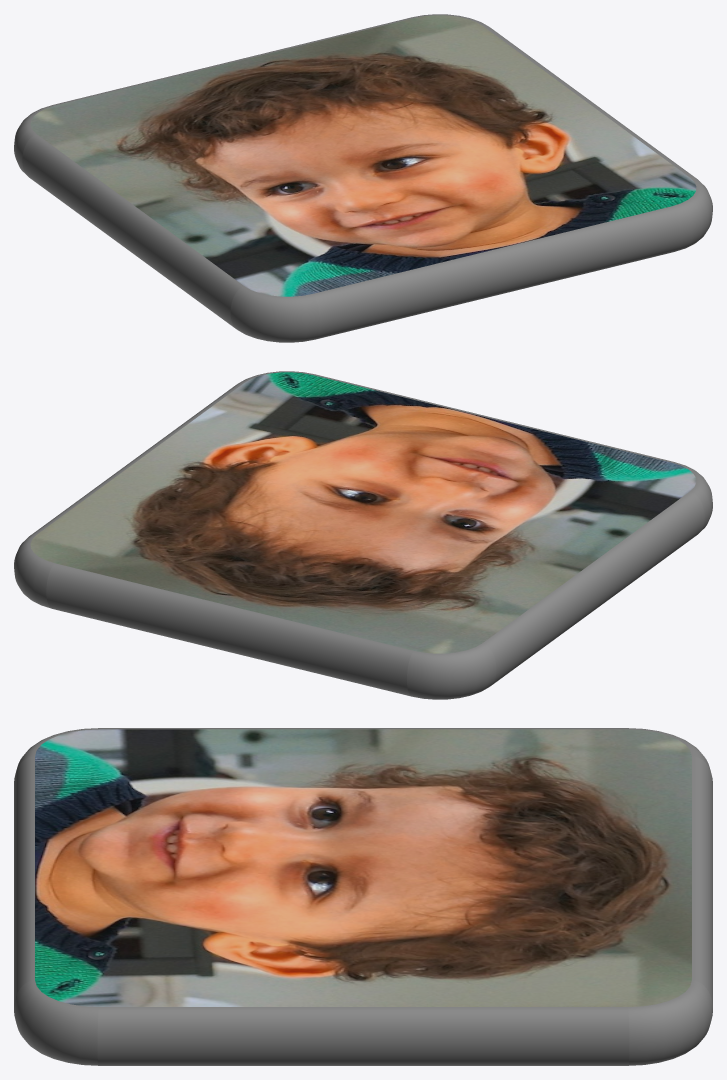
Rendered from contact.dae.
3 views of the same model, one above another, from view 1: azimuth 30°, elevation 25°; view 2: azimuth 150°, elevation 25°; view 3: azimuth 270°, elevation 25° (orthographic). The views are drawn at different scales.
Parts seen in each view (by area): view 1: people_PIVOT; view 2: people_PIVOT; view 3: people_PIVOT.
Part boxes in pixels (x1,y1,x2,y2): people_PIVOT: [14, 14, 712, 342]; people_PIVOT: [14, 371, 712, 699]; people_PIVOT: [14, 728, 712, 1065].
Size of the model in its own units: 49.58 by 49.58 by 4.49.
Materials: 3 (1 with a texture image).
